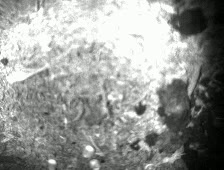corn: (79, 143, 98, 161), (86, 156, 103, 170), (44, 155, 59, 170)
